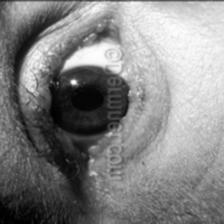Unclassified: (74, 16, 124, 42), (69, 144, 101, 176)
